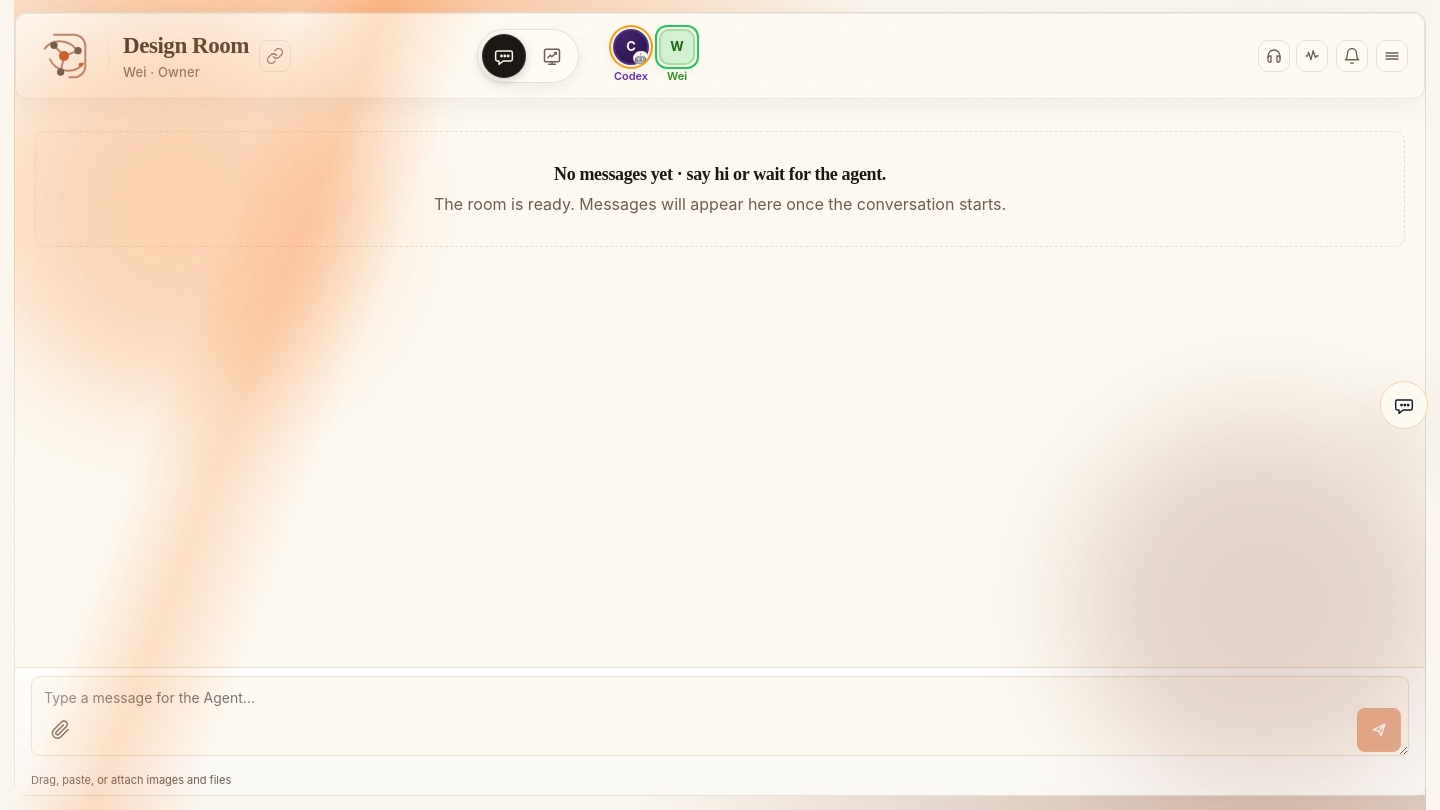
Test case: Collaborative Whiteboard workspace › observes board activity before lazily mounting an active editor
This screenshot has width=1440, height=810.
Click the tab named "whiteboard": x=552, y=56 [530,34,574,78]
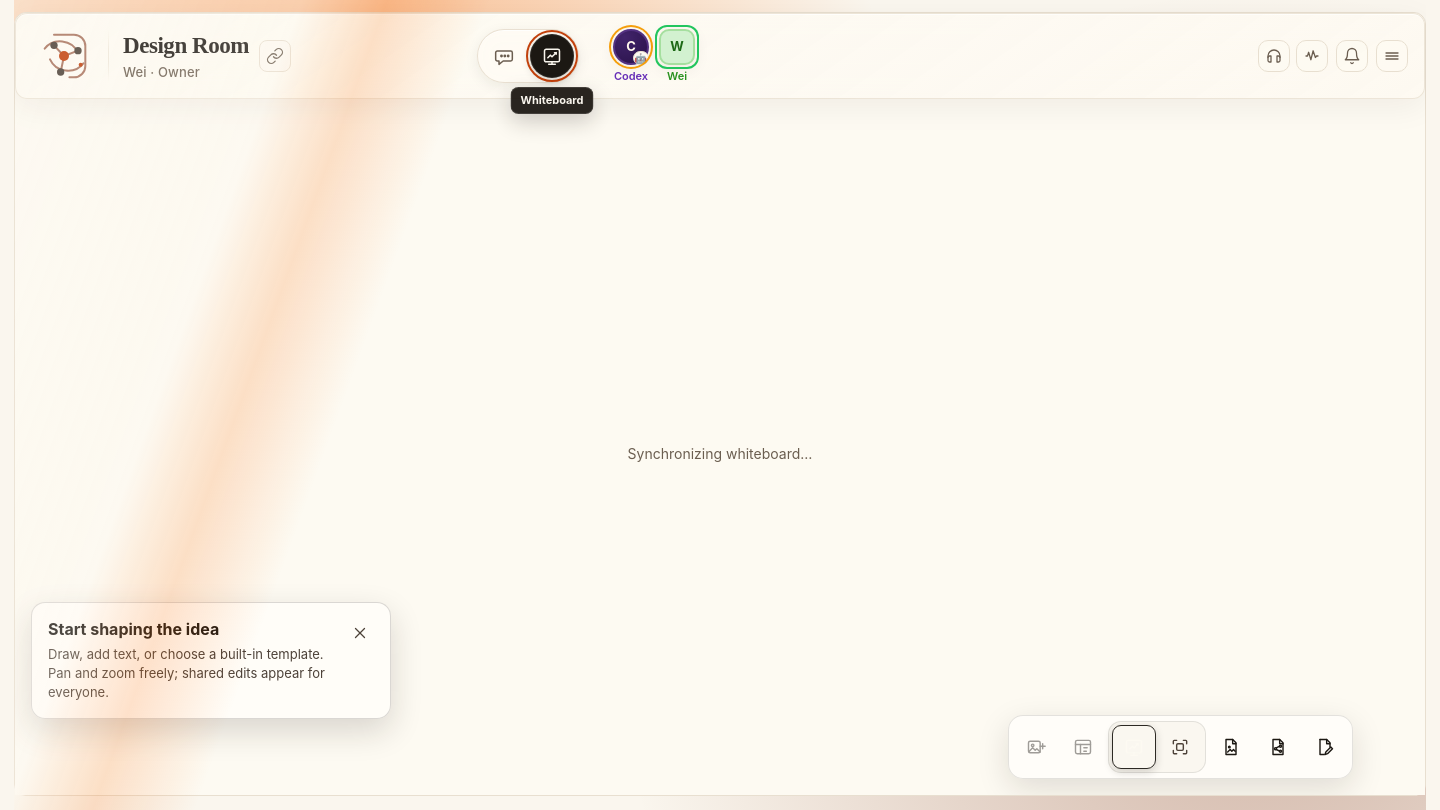
Click the tab named "main conversation": x=504, y=56 [482,34,526,78]
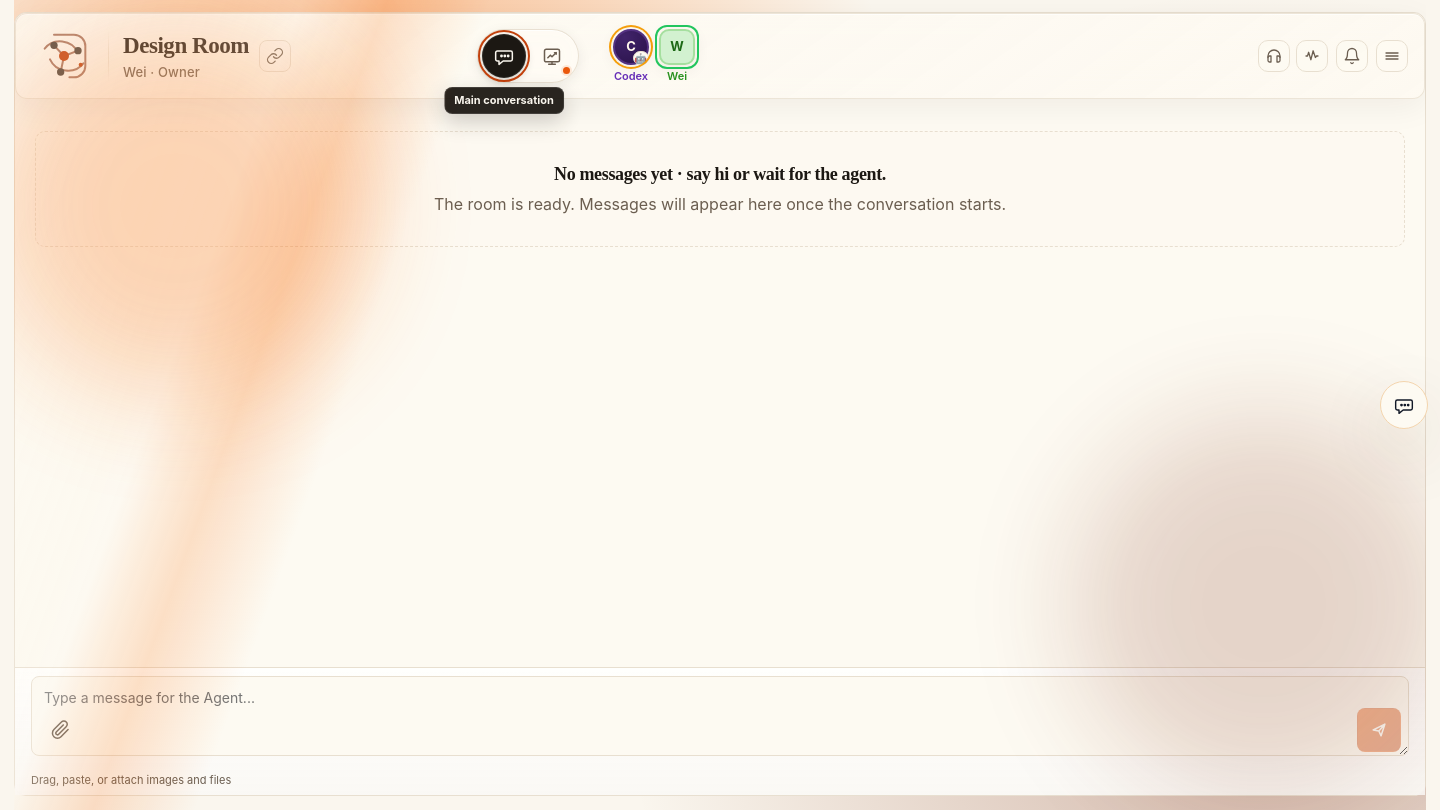
Now the element named "unseen whiteboard activity" is shown, box [563,67,570,74]
